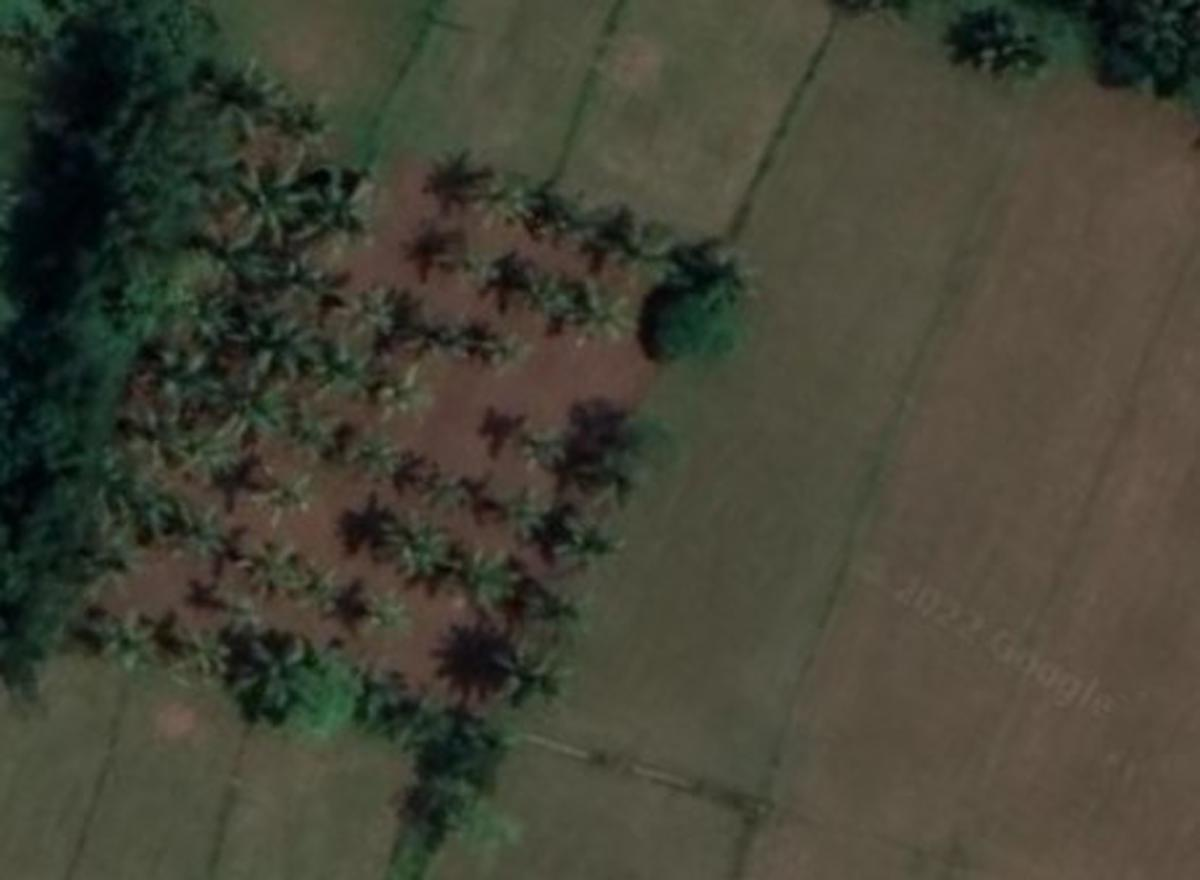coconut: (233, 151, 322, 246), (303, 159, 400, 246), (204, 371, 296, 453), (235, 306, 317, 387), (227, 623, 303, 707), (552, 277, 636, 345), (694, 240, 770, 311), (86, 607, 162, 678), (335, 277, 408, 345), (241, 531, 311, 597), (453, 539, 518, 610), (500, 641, 573, 704), (471, 170, 539, 235), (466, 316, 534, 377), (563, 508, 626, 573), (366, 361, 432, 419), (387, 502, 442, 568), (248, 463, 317, 515), (529, 586, 592, 641), (162, 497, 214, 563), (489, 489, 550, 544), (345, 437, 400, 492), (366, 589, 424, 639), (516, 426, 573, 476), (448, 240, 497, 298)
